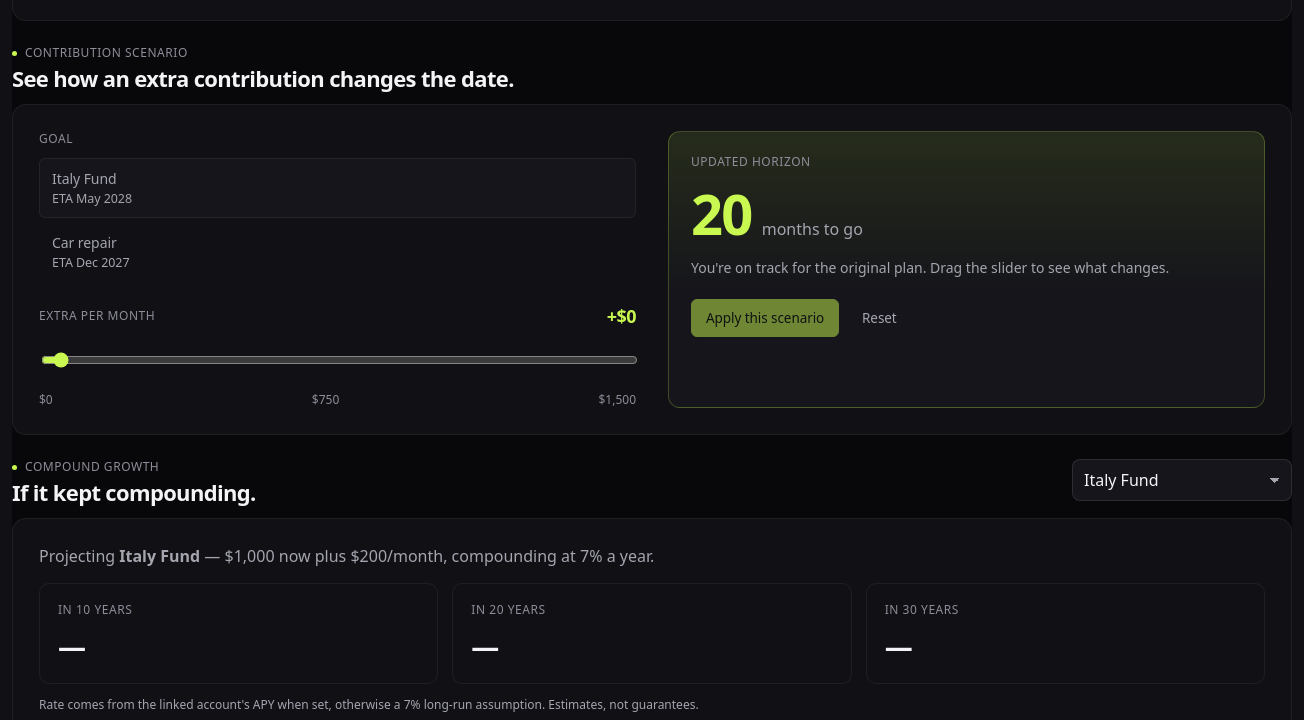
Test case: Goals — what-if scenario › updates the projection live when the slider moves
(page scrolled)
Expected: the text "20" is shown, [691,185,752,241]
Set the slider named "Extra monthly contribution" to "500" at x=243, y=360, box [41,340,638,380]
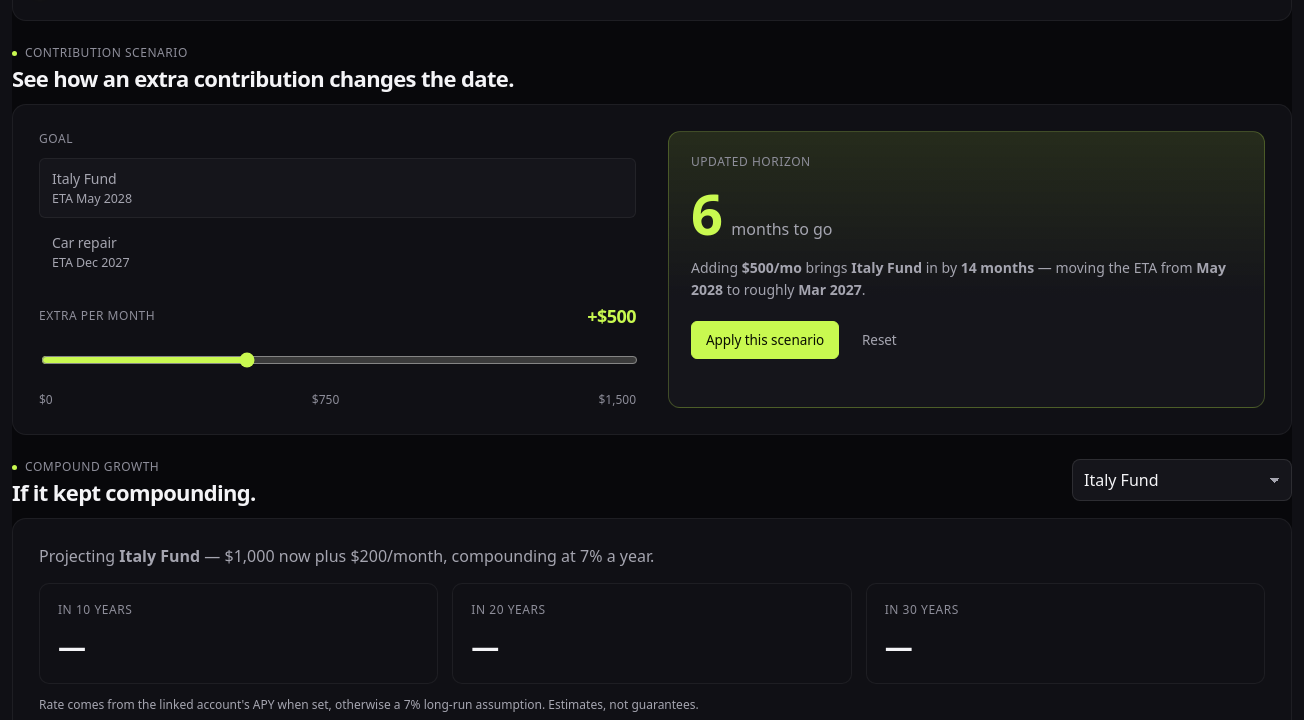
Now the text "6" is shown, box [691,185,721,241]
Now the text "brings" is shown, box [802,258,851,277]
Now the text "$500/mo" is shown, box [742,258,802,277]
